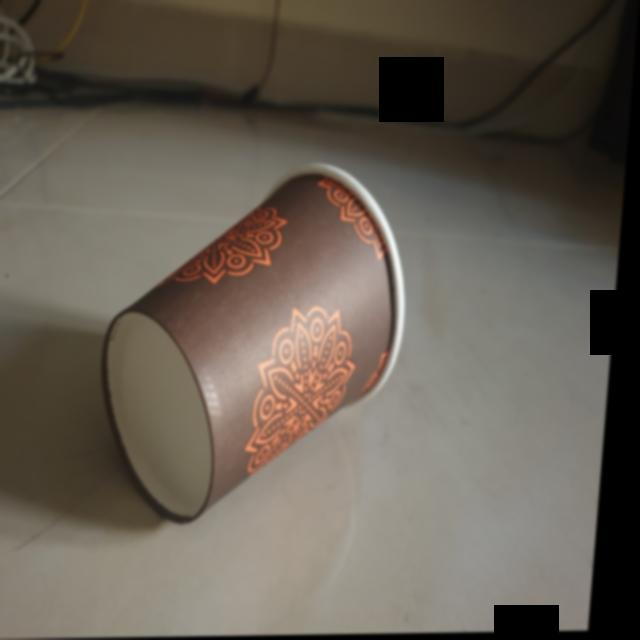cups: (89, 157, 427, 532)
